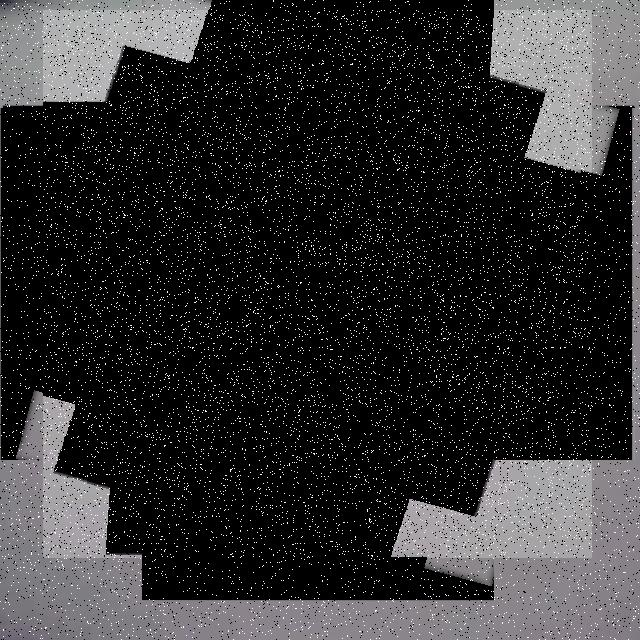dua ribu rupiah: (43, 10, 592, 558)
